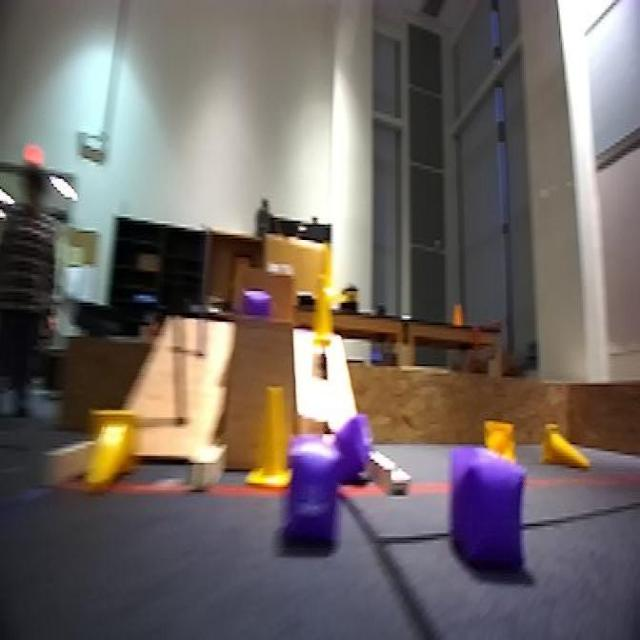frc_cone: (246, 374, 294, 492), (84, 410, 136, 497), (541, 426, 594, 473), (309, 286, 341, 354), (476, 419, 519, 466), (319, 237, 339, 304)
frc_cube: (444, 450, 535, 570), (283, 434, 335, 555), (326, 408, 371, 484), (241, 292, 271, 322)
